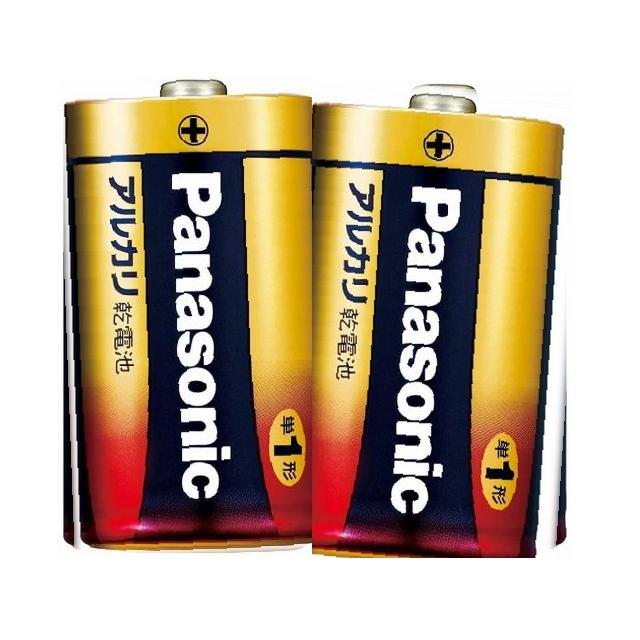battery: (312, 76, 586, 558), (57, 76, 316, 558)
